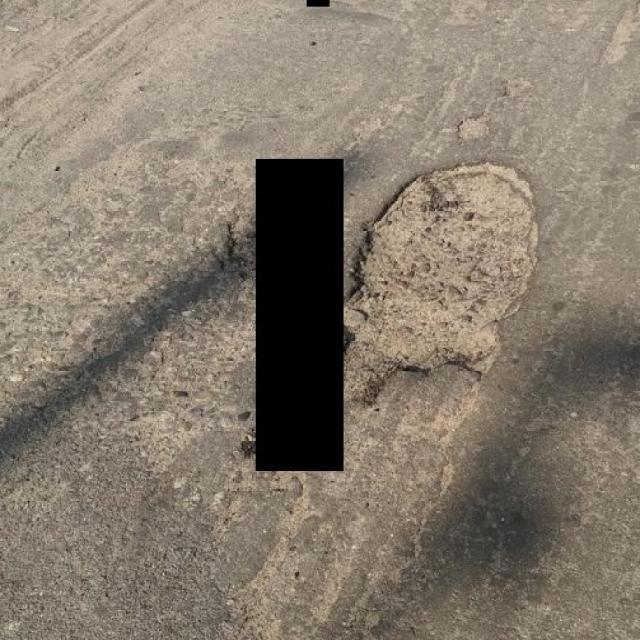road-pothole: (343, 158, 546, 390)
